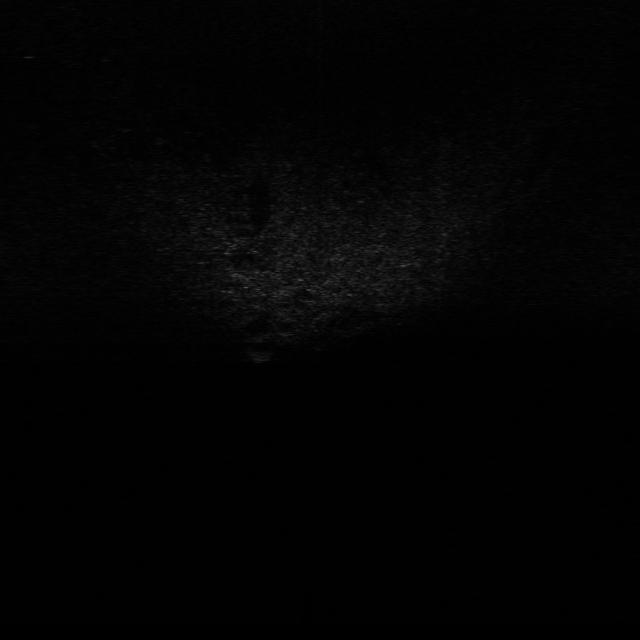cube: (244, 344, 274, 368)
